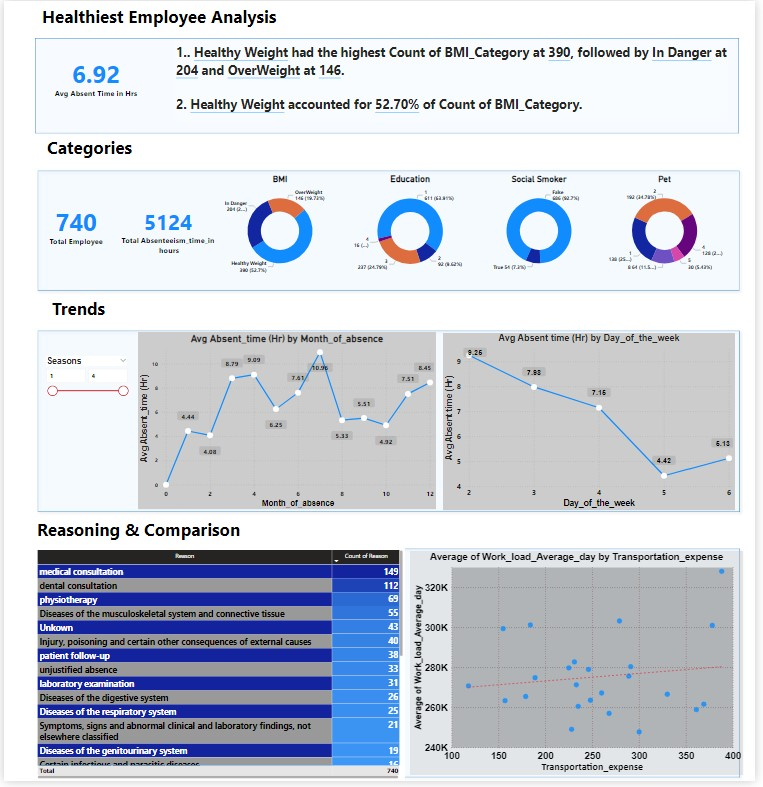

The dashboard page shown, as its layout file describes it:
{"tool":"powerbi","page":{"name":"Page 1","canvas":[1879,1950],"ordinal":0},"visuals":[{"type":"shape","box":[71.7,1360,1776.7,590],"z":0},{"type":"shape","box":[75,815,1773.3,471.7],"z":1000},{"type":"shape","box":[78.6,91.4,1760,238.6],"z":2000},{"type":"card","fields":{"Values":["Avg(Query1.Absenteeism_time_in_hours)"]},"box":[104.3,97.1,250,188.6],"z":3000},{"type":"textbox","box":[90,5.7,1661.4,75.7],"z":4000},{"type":"textbox","box":[425.7,100,1387.1,201.4],"z":5000},{"type":"textbox","box":[102.9,331.4,1661.4,72.9],"z":6000},{"type":"textbox","box":[78.3,1286.7,1661.7,73.3],"z":7000},{"type":"donutChart","title":"BMI","fields":{"Category":["Query1.BMI_Category"],"Y":["CountNonNull(Query1.BMI_Category)"]},"box":[534.3,432.9,310,260],"z":8000},{"type":"donutChart","title":" Education","fields":{"Y":["Sum(Query1.Education)"],"Series":["Query1.Education"]},"box":[851.4,431.4,325.7,260],"z":9000},{"type":"donutChart","title":"Social Smoker","fields":{"Category":["Query1.Social_smoker"],"Y":["CountNonNull(Query1.Social_smoker)"]},"box":[1182.9,431.4,310,260],"z":10000},{"type":"donutChart","title":"Pet","fields":{"Y":["Sum(Query1.Pet)"],"Series":["Query1.Pet"]},"box":[1495.7,431.4,312.9,260],"z":11000},{"type":"card","fields":{"Values":["Sum(Query1.Absenteeism_time_in_hours)"]},"box":[284.3,464.3,250,195.7],"z":12000},{"type":"card","fields":{"Values":["CountNonNull(Query1.ID)"]},"box":[78.6,468.6,205.7,188.6],"z":13000},{"type":"shape","box":[75.7,415.7,1772.9,318.6],"z":14000},{"type":"lineChart","fields":{"Y":["Avg(Query1.Absenteeism_time_in_hours)"],"Category":["Query1.Month_of_absence"]},"box":[335,828.3,745,443.3],"z":15000},{"type":"lineChart","fields":{"Y":["Avg(Query1.Absenteeism_time_in_hours)"],"Category":["Query1.Day_of_the_week"]},"box":[1096.7,830,730,443.3],"z":16000},{"type":"slicer","fields":{"Values":["Query1.Seasons"]},"box":[91.7,883.3,226.7,336.7],"z":17000},{"type":"tableEx","fields":{"Values":["Query1.Reason","CountNonNull(Query1.Reason)"]},"box":[78.3,1368.3,925,581.7],"z":18000},{"type":"scatterChart","fields":{"X":["Query1.Transportation_expense"],"Y":["Query1.Work_load_Average_day"]},"box":[1015,1375,833.3,560],"z":19000},{"type":"textbox","box":[115.7,735.7,1661.4,72.9],"z":20000}]}

Visuals, with their boxes in screenshot pixels (x1, y1, x2, y2), scaled from the page's 1879x1950 canvas onto the 763x787 screenshot:
shape: {"x1": 29, "y1": 549, "x2": 751, "y2": 786}
shape: {"x1": 30, "y1": 329, "x2": 751, "y2": 519}
shape: {"x1": 32, "y1": 37, "x2": 747, "y2": 133}
card - Avg(Query1.Absenteeism_time_in_hours): {"x1": 42, "y1": 39, "x2": 144, "y2": 115}
textbox: {"x1": 37, "y1": 2, "x2": 711, "y2": 33}
textbox: {"x1": 173, "y1": 40, "x2": 736, "y2": 122}
textbox: {"x1": 42, "y1": 134, "x2": 716, "y2": 163}
textbox: {"x1": 32, "y1": 519, "x2": 707, "y2": 549}
"BMI" donutChart: {"x1": 217, "y1": 175, "x2": 343, "y2": 280}
" Education" donutChart: {"x1": 346, "y1": 174, "x2": 478, "y2": 279}
"Social Smoker" donutChart: {"x1": 480, "y1": 174, "x2": 606, "y2": 279}
"Pet" donutChart: {"x1": 607, "y1": 174, "x2": 734, "y2": 279}
card - Sum(Query1.Absenteeism_time_in_hours): {"x1": 115, "y1": 187, "x2": 217, "y2": 266}
card - CountNonNull(Query1.ID): {"x1": 32, "y1": 189, "x2": 115, "y2": 265}
shape: {"x1": 31, "y1": 168, "x2": 751, "y2": 296}
lineChart - Avg(Query1.Absenteeism_time_in_hours) x Query1.Month_of_absence: {"x1": 136, "y1": 334, "x2": 439, "y2": 513}
lineChart - Avg(Query1.Absenteeism_time_in_hours) x Query1.Day_of_the_week: {"x1": 445, "y1": 335, "x2": 742, "y2": 514}
slicer - Query1.Seasons: {"x1": 37, "y1": 356, "x2": 129, "y2": 492}
tableEx - Query1.Reason x CountNonNull(Query1.Reason): {"x1": 32, "y1": 552, "x2": 407, "y2": 786}
scatterChart - Query1.Transportation_expense x Query1.Work_load_Average_day: {"x1": 412, "y1": 555, "x2": 751, "y2": 781}
textbox: {"x1": 47, "y1": 297, "x2": 722, "y2": 326}
